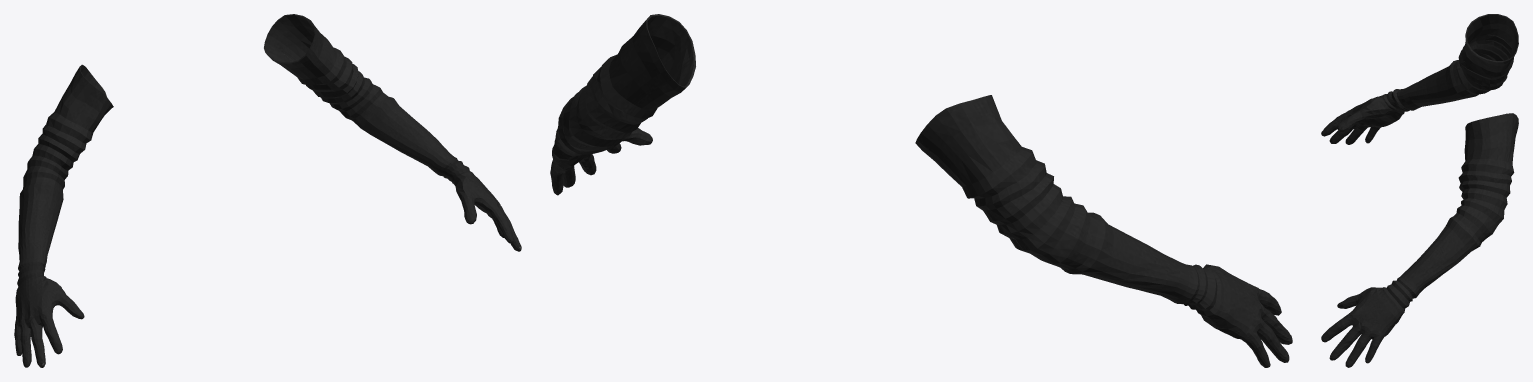
The model's file is mhw_toigo_gloves_long.glb.
3 renders of one model, left to right at view 1: azimuth 30°, elevation 25°; view 2: azimuth 150°, elevation 25°; view 3: azimuth 270°, elevation 25°, orthographic. The views are drawn at different scales.
Visible parts, largest first — view 1: mhw_toigo_gloves_long; view 2: mhw_toigo_gloves_long; view 3: mhw_toigo_gloves_long.
Boxes of the visible parts, x1,y1,x2,y2 form: mhw_toigo_gloves_long: (14,14,521,367); mhw_toigo_gloves_long: (550,14,1292,367); mhw_toigo_gloves_long: (1321,14,1518,367).
Size of the model in its own units: 1.22 by 0.4838 by 0.4532.
1 material, 1 textured.
